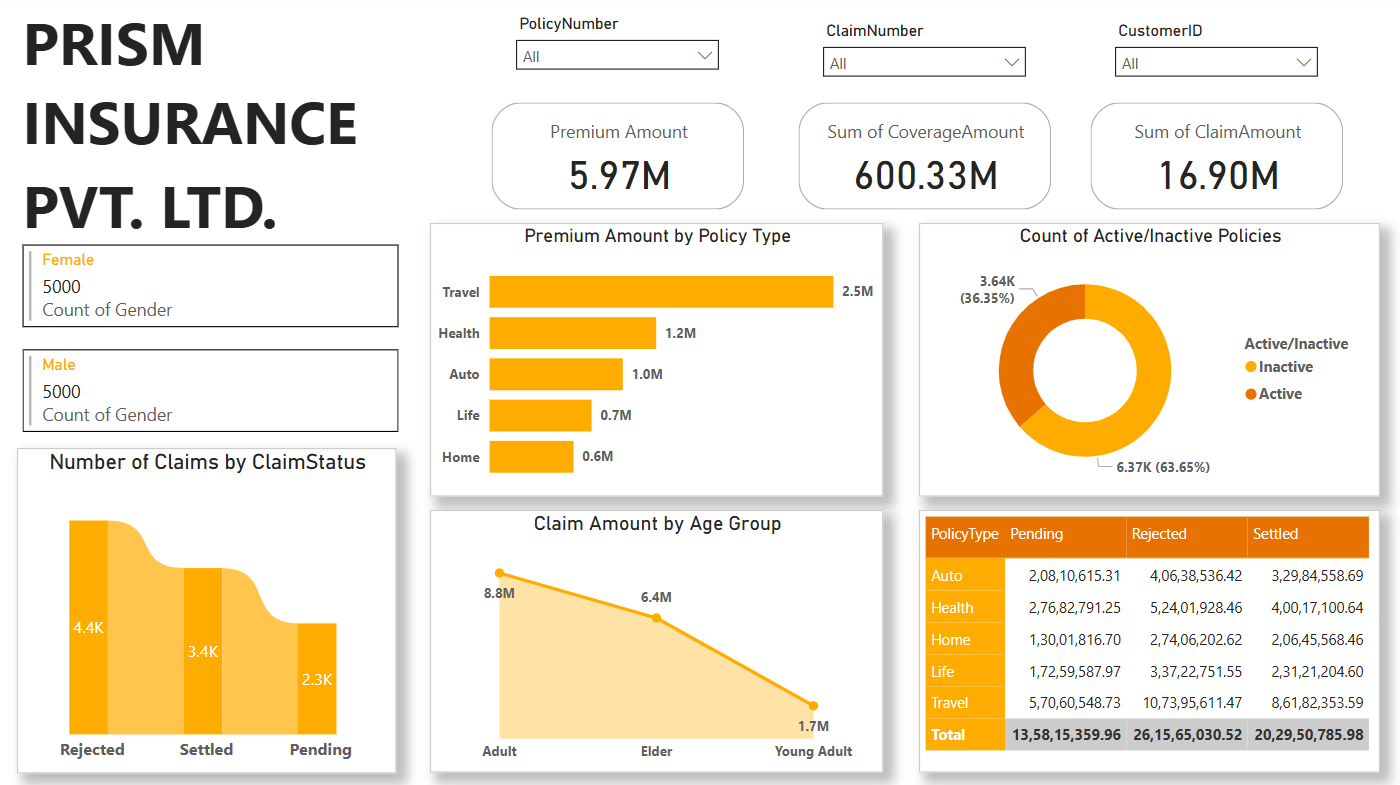

The page's visual inventory and layout, read from the dashboard file:
{"tool":"powerbi","page":{"name":"Page 1","canvas":[1280,720],"ordinal":0},"visuals":[{"type":"slicer","fields":{"Values":["InsuranceData.PolicyNumber"]},"box":[461.6,11.8,204,73.5],"z":0},{"type":"slicer","fields":{"Values":["InsuranceData.CustomerID"]},"box":[1004.7,18.1,204,73.5],"z":1000},{"type":"slicer","fields":{"Values":["InsuranceData.ClaimNumber"]},"box":[739.9,18.1,204,73.5],"z":2000},{"type":"textbox","box":[19,0,326.4,231.2],"z":3000},{"type":"cardVisual","fields":{"Data":["Sum(InsuranceData.PremiumAmount)"]},"box":[444.3,91.6,239.4,107],"z":4000},{"type":"cardVisual","fields":{"Data":["Sum(InsuranceData.ClaimAmount)"]},"box":[987.5,91.6,239.4,107],"z":5000},{"type":"cardVisual","fields":{"Data":["Sum(InsuranceData.CoverageAmount)"]},"box":[722.7,91.6,239.4,107],"z":6000},{"type":"multiRowCard","fields":{"Values":["InsuranceData.Gender","CountNonNull(InsuranceData.Gender)"]},"box":[8.2,219.4,350.9,199.5],"z":7000},{"type":"ribbonChart","title":"Number of  Claims by ClaimStatus","fields":{"Category":["InsuranceData.ClaimStatus"],"Y":["CountNonNull(InsuranceData.ClaimStatus)"]},"box":[10,409.9,343.7,294.7],"z":8000},{"type":"barChart","title":"Premium Amount by Policy Type","fields":{"Category":["InsuranceData.PolicyType"],"Y":["Sum(InsuranceData.PremiumAmount)"]},"box":[393.6,205.8,410.8,248.5],"z":9000},{"type":"lineChart","title":"Claim Amount by Age Group","fields":{"Category":["InsuranceData.Age Group"],"Y":["Sum(InsuranceData.ClaimAmount)"]},"box":[393.6,466.1,410.8,238.5],"z":10000},{"type":"donutChart","title":"Count of Active/Inactive Policies","fields":{"Category":["InsuranceData.Active/Inactive"],"Y":["CountNonNull(InsuranceData.Active/Inactive)"]},"box":[837,205.8,418,248.5],"z":11000},{"type":"pivotTable","fields":{"Values":["Sum(InsuranceData.CoverageAmount)"],"Rows":["InsuranceData.PolicyType"],"Columns":["InsuranceData.ClaimStatus"]},"box":[837,466.1,418,238.5],"z":12000}]}

Visuals, with their boxes in screenshot pixels (x1, y1, x2, y2), scaled from the page's 1280x720 canvas onto the 1400x785 screenshot:
slicer - InsuranceData.PolicyNumber: l=505, t=13, r=728, b=93
slicer - InsuranceData.CustomerID: l=1099, t=20, r=1322, b=100
slicer - InsuranceData.ClaimNumber: l=809, t=20, r=1032, b=100
textbox: l=21, t=0, r=378, b=252
cardVisual - Sum(InsuranceData.PremiumAmount): l=486, t=100, r=748, b=217
cardVisual - Sum(InsuranceData.ClaimAmount): l=1080, t=100, r=1342, b=217
cardVisual - Sum(InsuranceData.CoverageAmount): l=790, t=100, r=1052, b=217
multiRowCard - InsuranceData.Gender x CountNonNull(InsuranceData.Gender): l=9, t=239, r=393, b=457
"Number of  Claims by ClaimStatus" ribbonChart: l=11, t=447, r=387, b=768
"Premium Amount by Policy Type" barChart: l=430, t=224, r=880, b=495
"Claim Amount by Age Group" lineChart: l=430, t=508, r=880, b=768
"Count of Active/Inactive Policies" donutChart: l=915, t=224, r=1373, b=495
pivotTable - Sum(InsuranceData.CoverageAmount) x InsuranceData.PolicyType: l=915, t=508, r=1373, b=768
